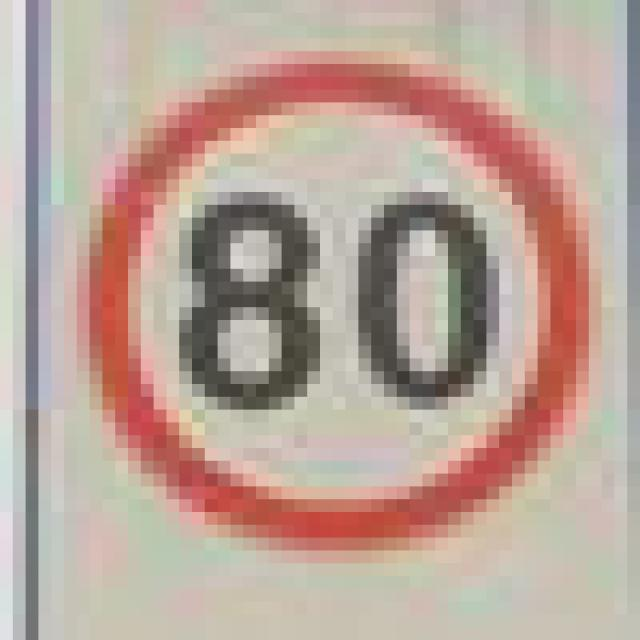SPEED_LIMIT_80: (77, 51, 589, 525)
